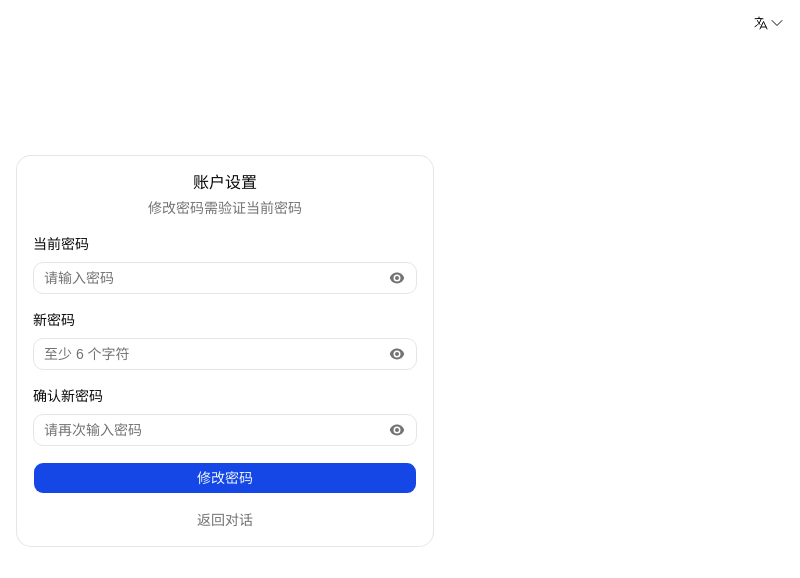
SettingsPage › 应该显示密码不一致错误
Type "Password123!" into the password field labelled "当前密码" at (225, 278), box left=33, top=262, right=417, bottom=294
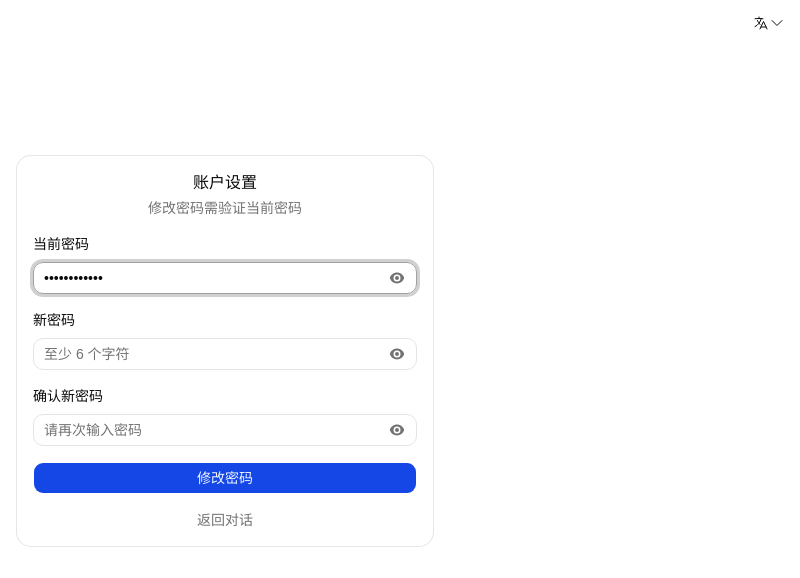
Type "NewPassword456!" into the password field labelled "新密码" at (225, 354), box left=33, top=338, right=417, bottom=370
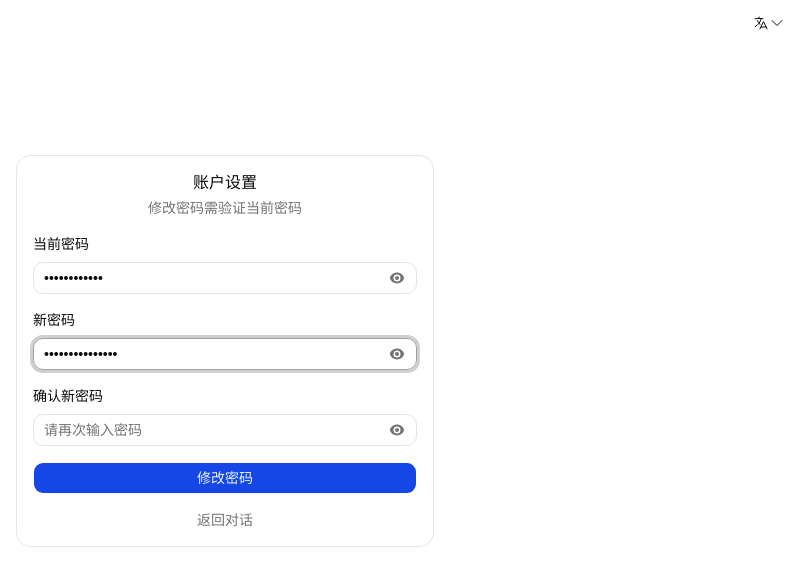
Type "different" into the password field labelled "确认新密码" at (225, 430), box left=33, top=414, right=417, bottom=446
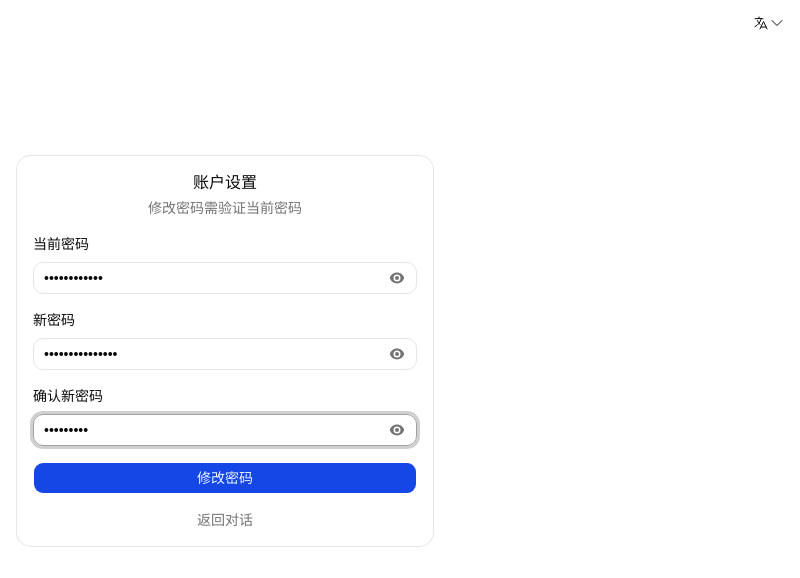
Press Tab
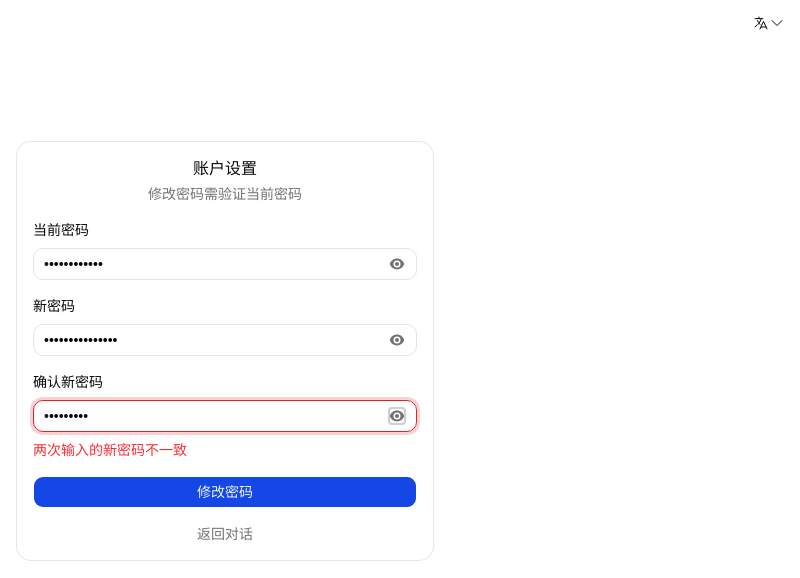
Now the text "两次输入的新密码不一致" is shown, box left=33, top=442, right=187, bottom=458
